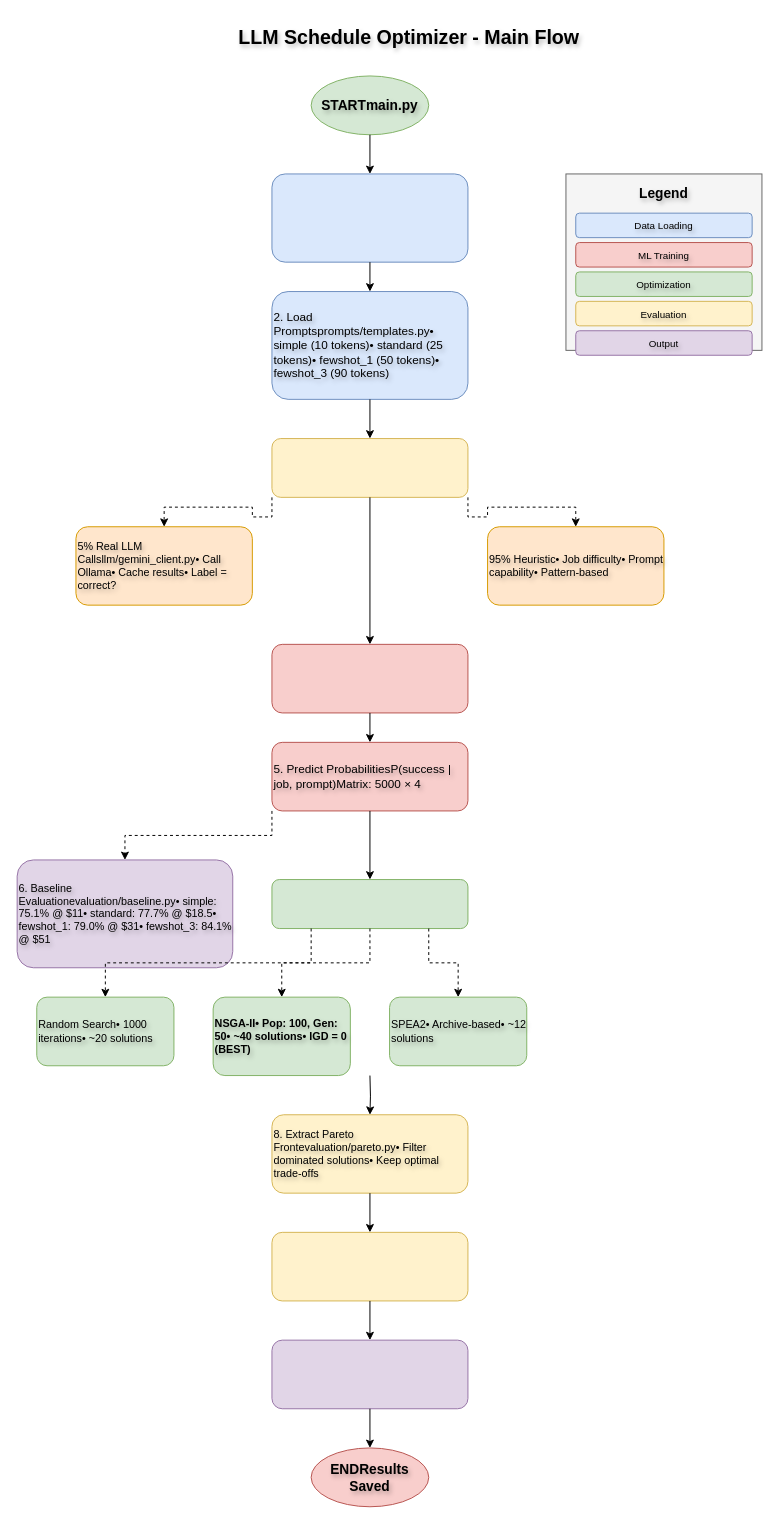
The diagram is 779 pixels wide and 1524 high, and some of its shapes have lost their labels. Each missing label, with the box of its shape:
1. Load HDFS Jobsjobs/loader.py• Parse logs• Extract features• 5000 jobs loaded: (271, 173, 468, 262)
10. Generate Outputs• Pareto plot• CSV tables• Results summary: (271, 1339, 468, 1409)
3. Create Training Datapredictors/mlbp.py: (271, 438, 468, 497)
4. Train XGBoost• 20,000 samples• 7 features• Accuracy: 79%: (271, 643, 468, 713)
7. Run Optimizers (3 runs each): (271, 879, 468, 929)
9. Compute Metrics• IGD (distance)• Δ (spread)• Mₙ (count): (271, 1231, 468, 1301)
